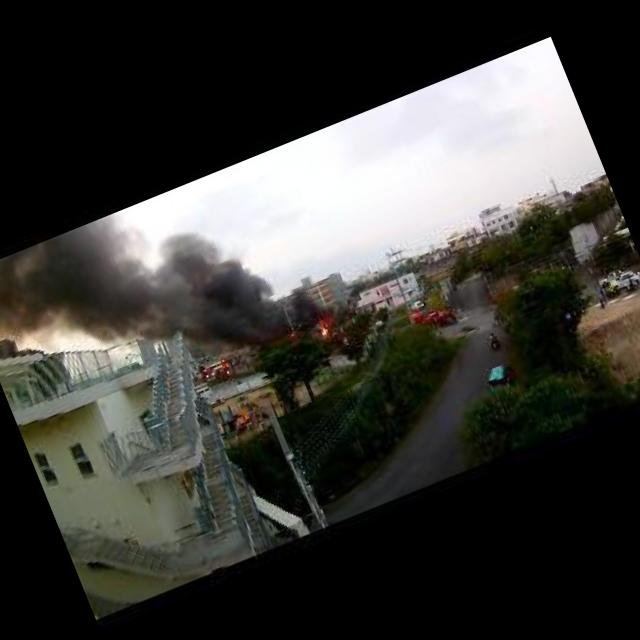fire: (316, 327, 329, 338)
smoke: (124, 194, 295, 378), (0, 209, 163, 381)
